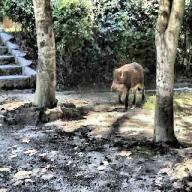boar: (108, 61, 146, 109)
